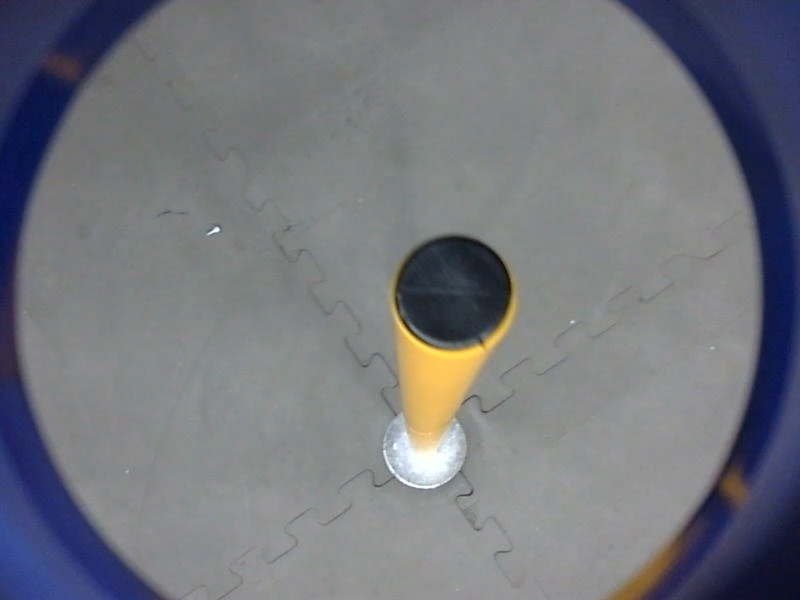tip: (381, 227, 525, 361)
